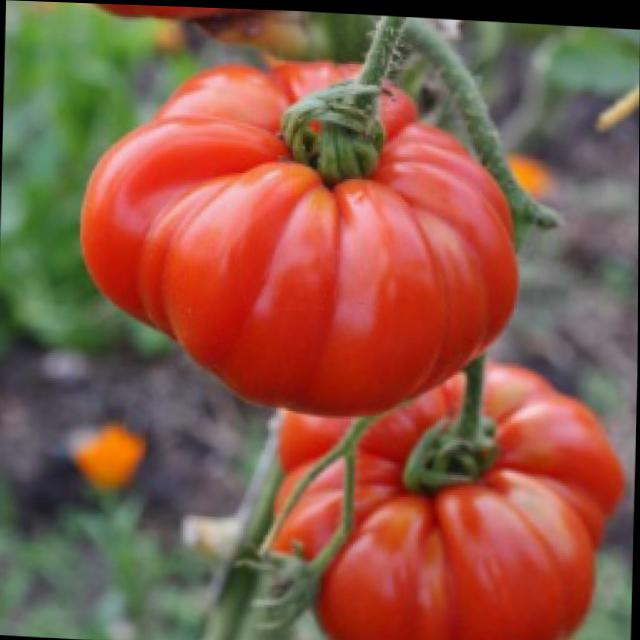tomato: (76, 48, 522, 421), (268, 345, 628, 640)
